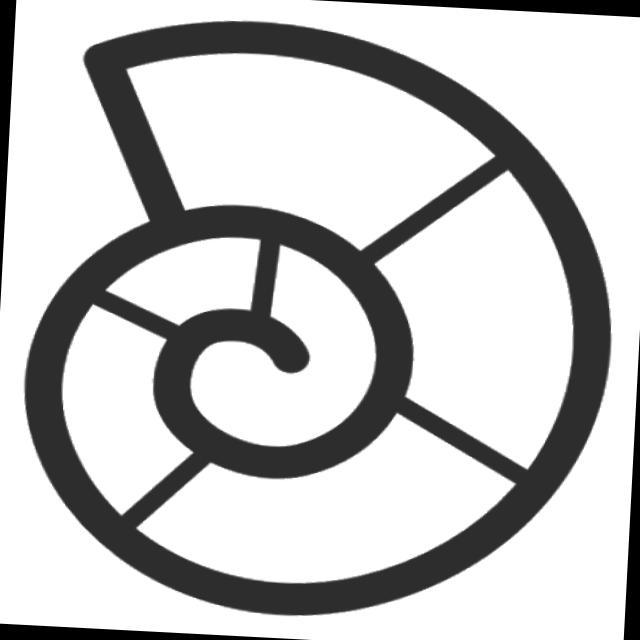fossil: (2, 2, 640, 640)
